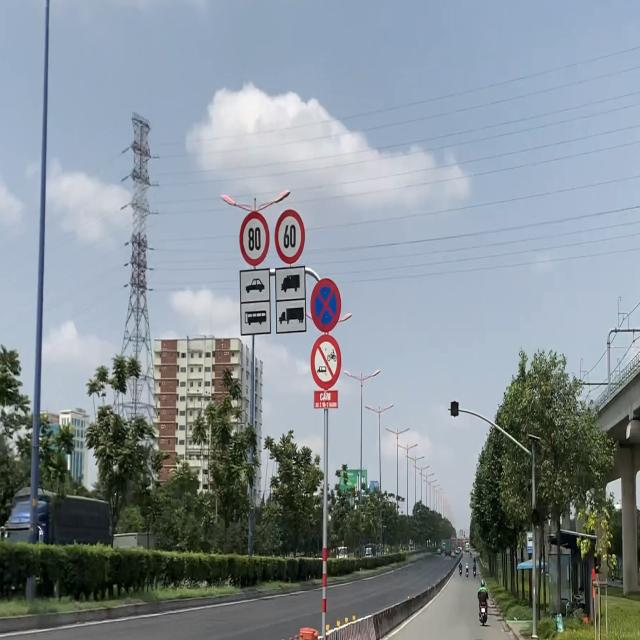Cam con lai: (311, 334, 342, 386)
Cam dung va do: (309, 278, 342, 334)
Toc do toi da: (239, 211, 269, 264), (274, 211, 304, 262)
